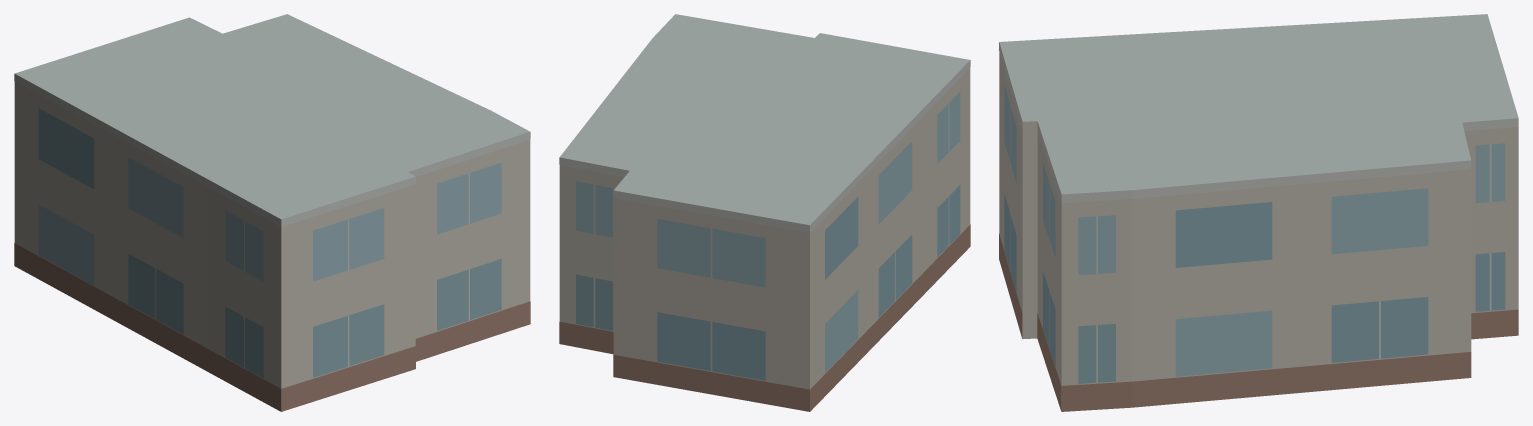
Rendered from survey-upis-32460749.glb.
3 renders of one model, left to right at view 1: azimuth 30°, elevation 25°; view 2: azimuth 150°, elevation 25°; view 3: azimuth 270°, elevation 25°, orthographic. The views are drawn at different scales.
Visible parts, largest first — view 1: survey-upis-32460749.tmp; view 2: survey-upis-32460749.tmp; view 3: survey-upis-32460749.tmp.
Part boxes in pixels (x1,y1,x2,y2): survey-upis-32460749.tmp: [14, 14, 530, 411]; survey-upis-32460749.tmp: [559, 14, 970, 411]; survey-upis-32460749.tmp: [999, 14, 1518, 411].
Bounding box in the file's own units: 10.87 × 6.1 × 13.22.
